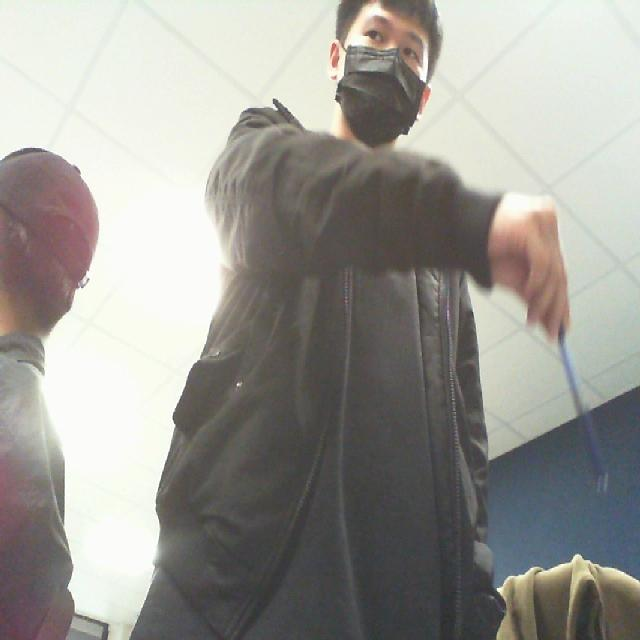Pen: (537, 295, 624, 522)
